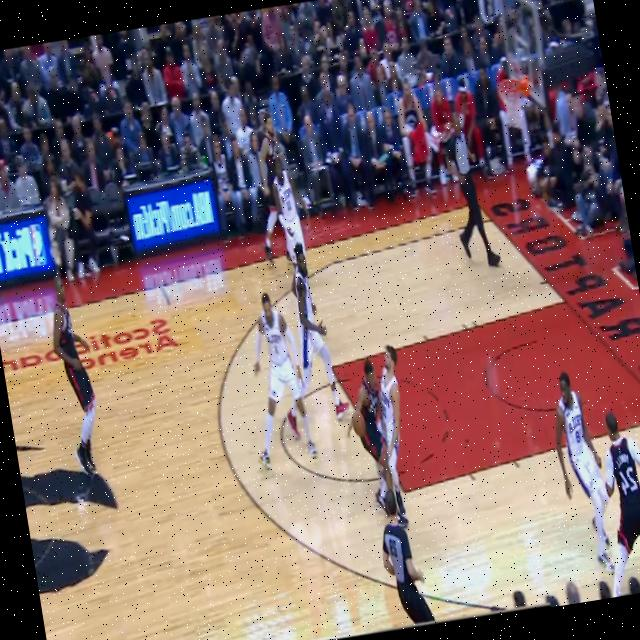Foul: (359, 352, 410, 450)
